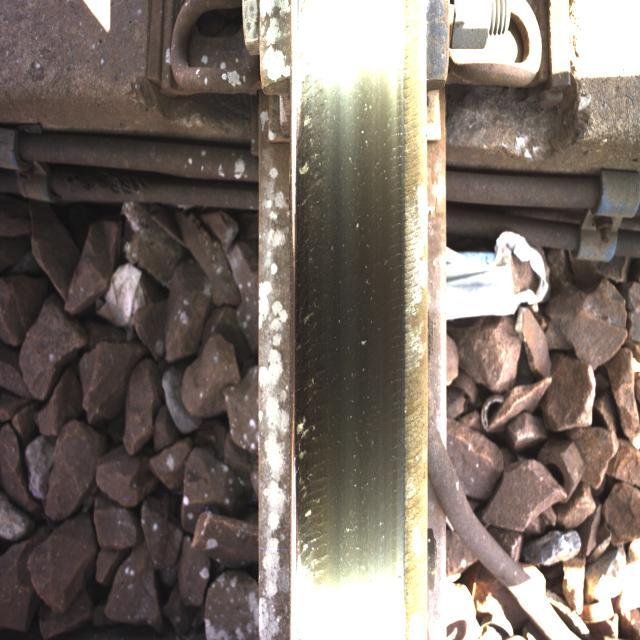normal: (298, 35, 390, 543)
